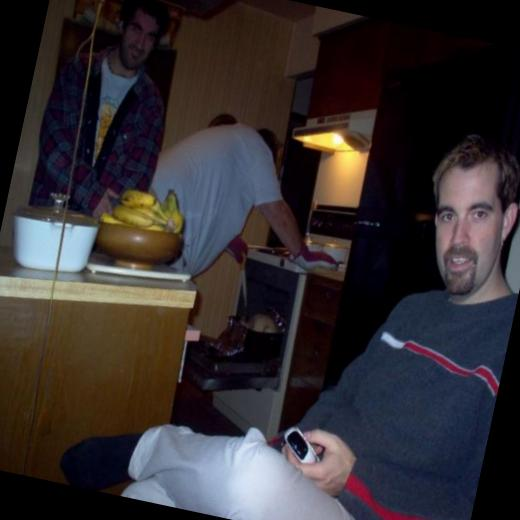Banana: (92, 178, 182, 258)
